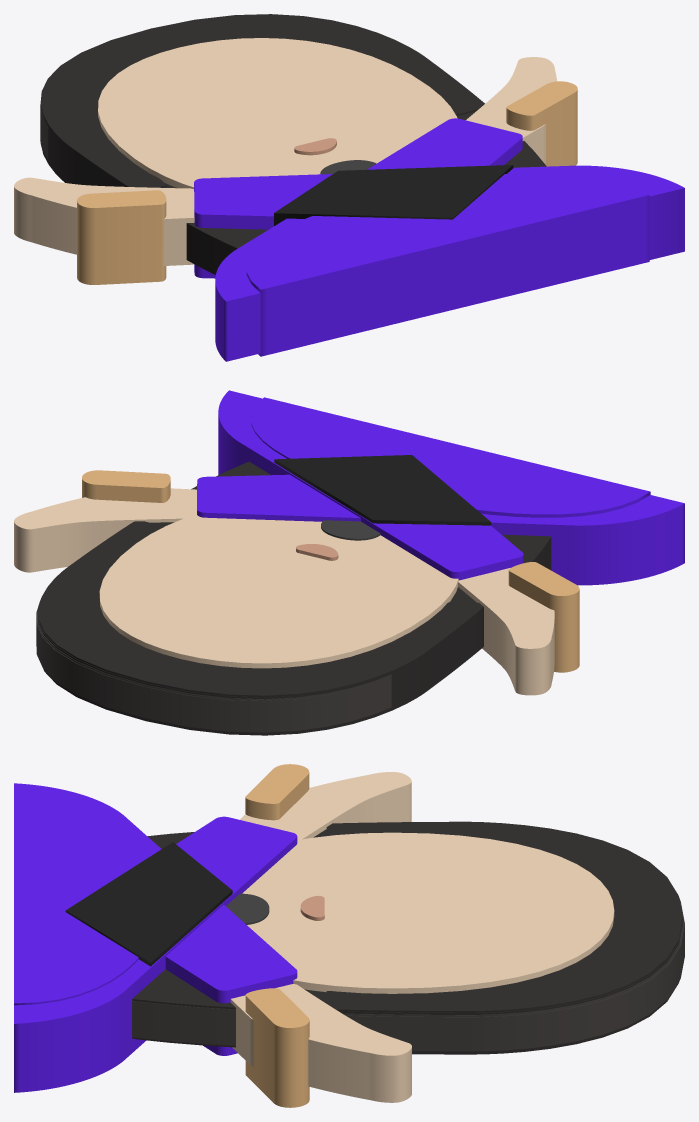
The model's file is emoji_u1f645_1f3fb_200d_2640.glb.
3 renders of one model, top to bottom at view 1: azimuth 30°, elevation 25°; view 2: azimuth 150°, elevation 25°; view 3: azimuth 270°, elevation 25°, orthographic. The views are drawn at different scales.
Parts seen in each view (by area): view 1: emoji_u1f645_1f3fb_200d_2640; view 2: emoji_u1f645_1f3fb_200d_2640; view 3: emoji_u1f645_1f3fb_200d_2640.
Part boxes in pixels (x1,y1,x2,y2): emoji_u1f645_1f3fb_200d_2640: (14, 14, 684, 361); emoji_u1f645_1f3fb_200d_2640: (14, 390, 684, 735); emoji_u1f645_1f3fb_200d_2640: (14, 764, 684, 1107).
Bounding box in the file's own units: 0.0334 × 0.0046 × 0.0335.
